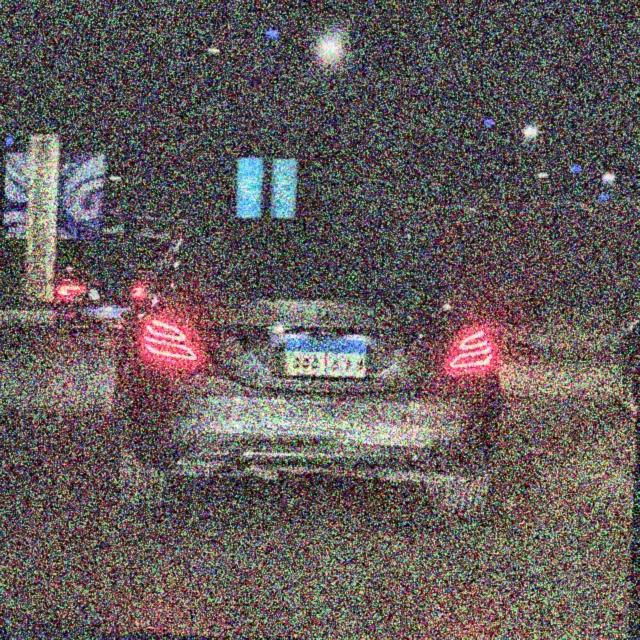License Plate: (285, 336, 368, 379)
